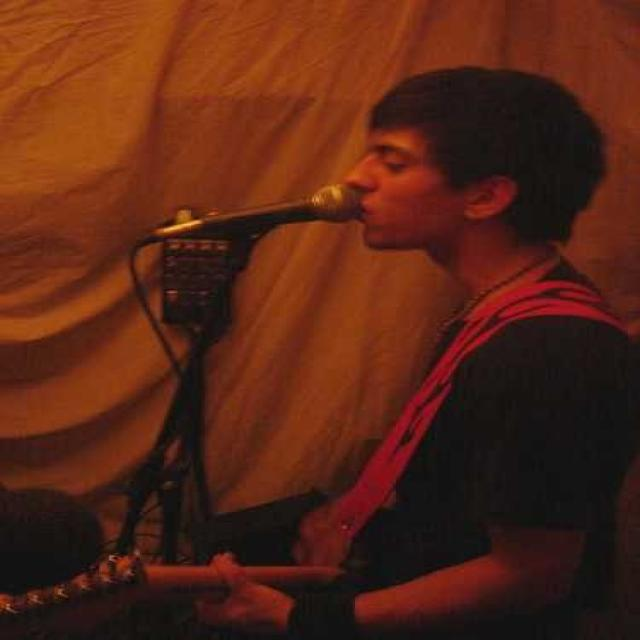microphone: (156, 185, 363, 238)
